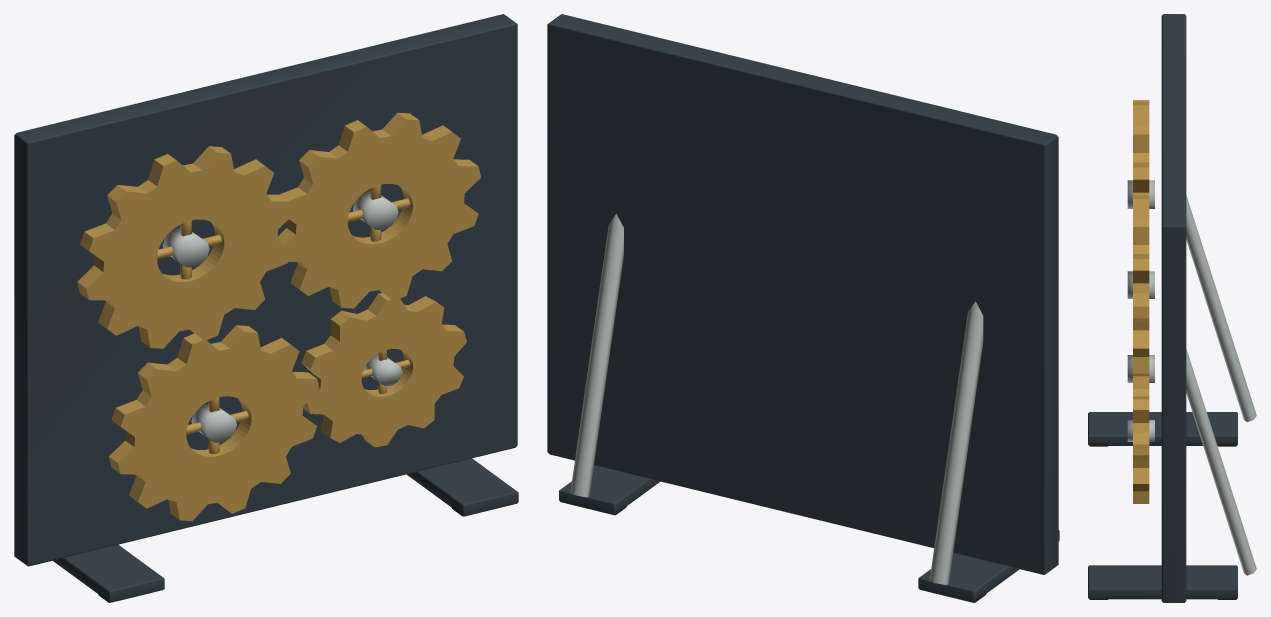
Rendered from S088_oversized_gear_wall_rebuilt.glb.
The picture shows the model from 3 angles, left to right: view 1: azimuth 30°, elevation 25°; view 2: azimuth 150°, elevation 25°; view 3: azimuth 270°, elevation 25°; orthographic projection. The views are drawn at different scales.
Parts seen in each view (by area): view 1: shell, gold, silver; view 2: shell, silver; view 3: shell, silver, gold.
Part boxes in pixels (box(x1,y1,x2,y2)): shell: box(14, 14, 518, 602); gold: box(77, 112, 480, 521); silver: box(162, 191, 402, 442); shell: box(547, 14, 1059, 602); silver: box(570, 214, 983, 584); shell: box(1088, 14, 1237, 602); silver: box(1127, 180, 1256, 575); gold: box(1133, 100, 1149, 503).
Bounding box in the file's own units: 2.8 × 2.4 × 0.9373.
